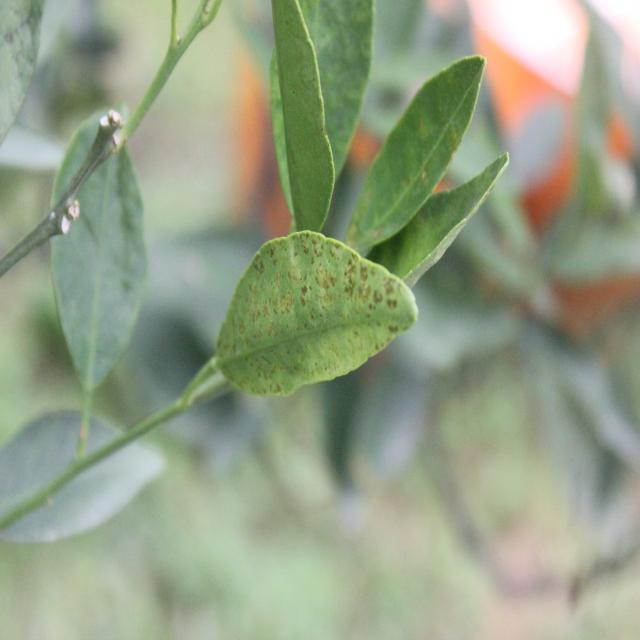canker: (217, 232, 423, 399)
